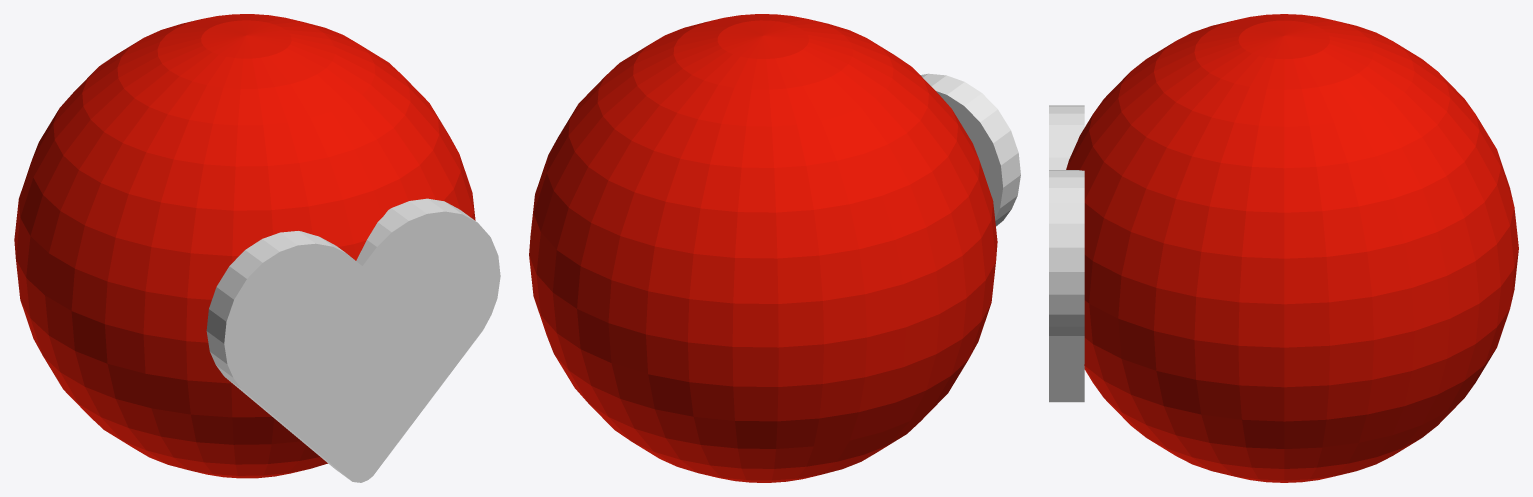
File: Love.fbx
The picture shows the model from 3 angles, left to right: view 1: azimuth 30°, elevation 25°; view 2: azimuth 150°, elevation 25°; view 3: azimuth 270°, elevation 25°; orthographic projection.
Parts seen in each view (by area): view 1: love; view 2: love; view 3: love.
Boxes of the visible parts, x1,y1,x2,y2 form: love: [14, 14, 500, 482]; love: [529, 14, 1020, 482]; love: [1049, 14, 1518, 482].
Size of the model in its own units: 89.67 by 89.67 by 89.77.
